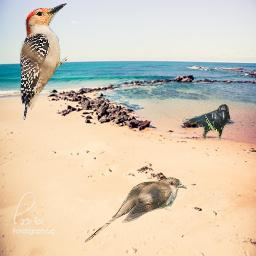Crow: (184, 104, 230, 140)
Cuckoo: (85, 177, 187, 243)
Woodpecker: (20, 2, 67, 120)
